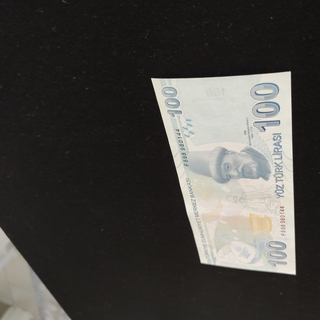100TLBack: (149, 71, 298, 276)
